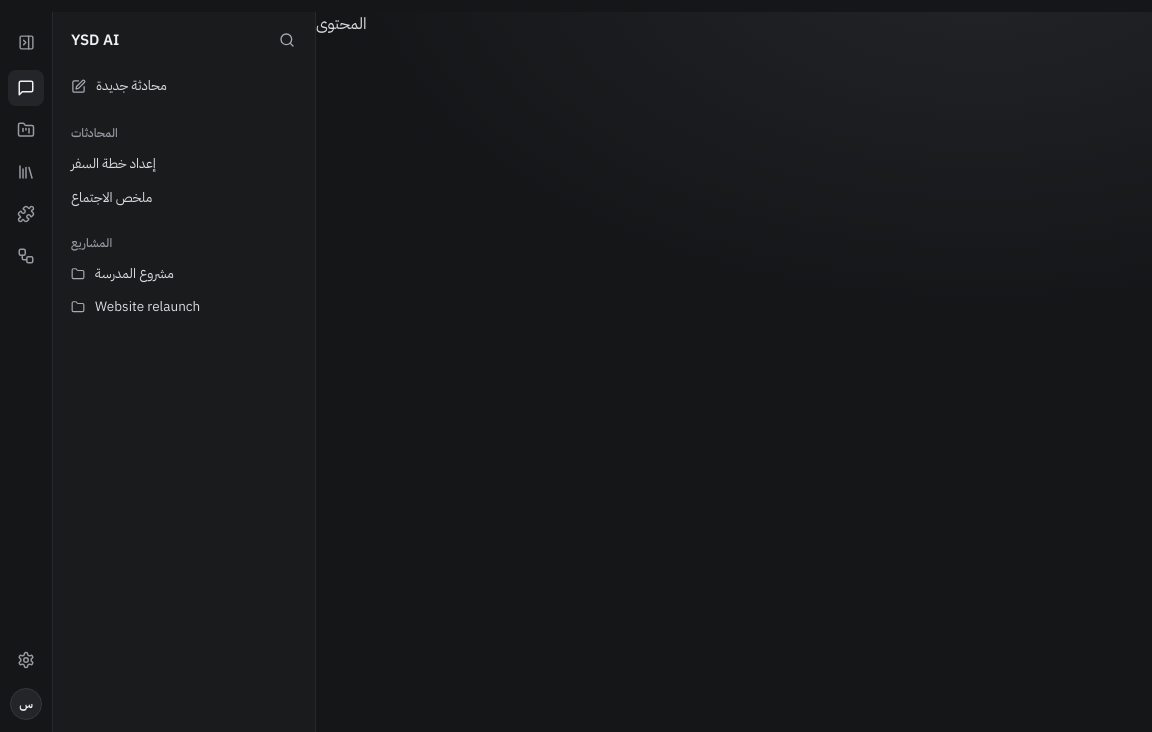
it: قائمة الحساب › Esc يغلقها ويعيد التركيز إلى زرّها، والنقر خارجها يغلقها
The image size is (1152, 732).
Click the button named "قائمة الحساب".
click(26, 704)  # box [10,688,42,720]
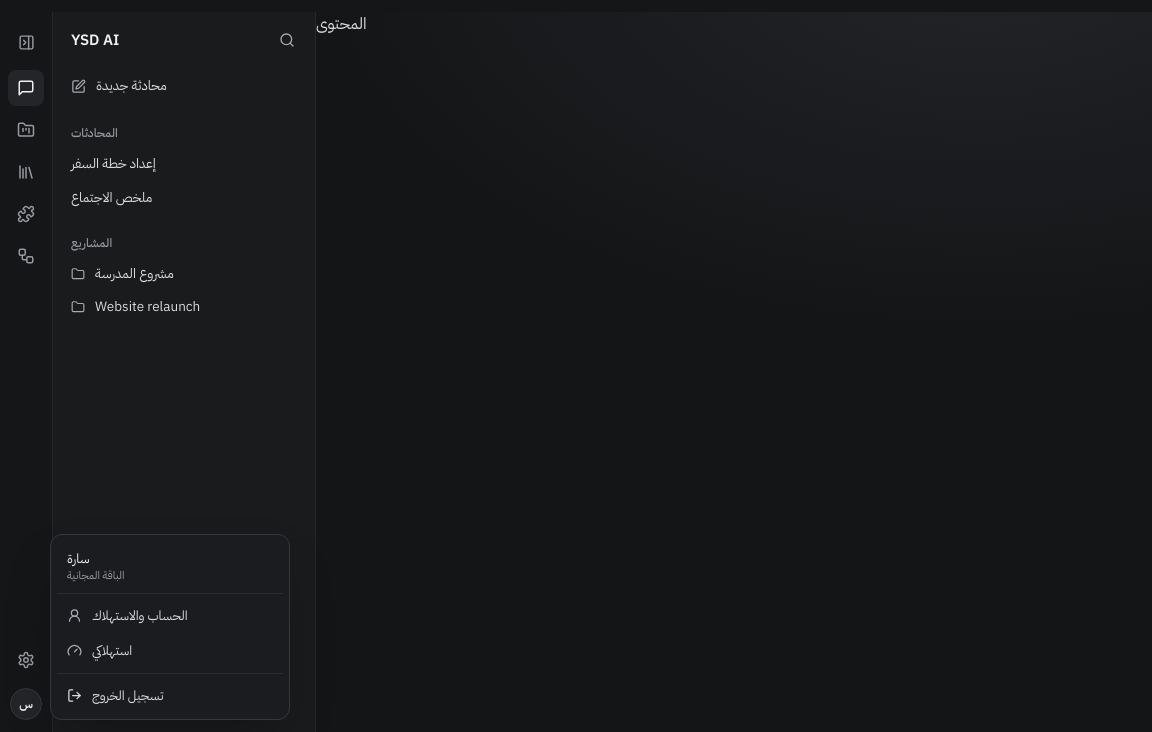
Press Escape
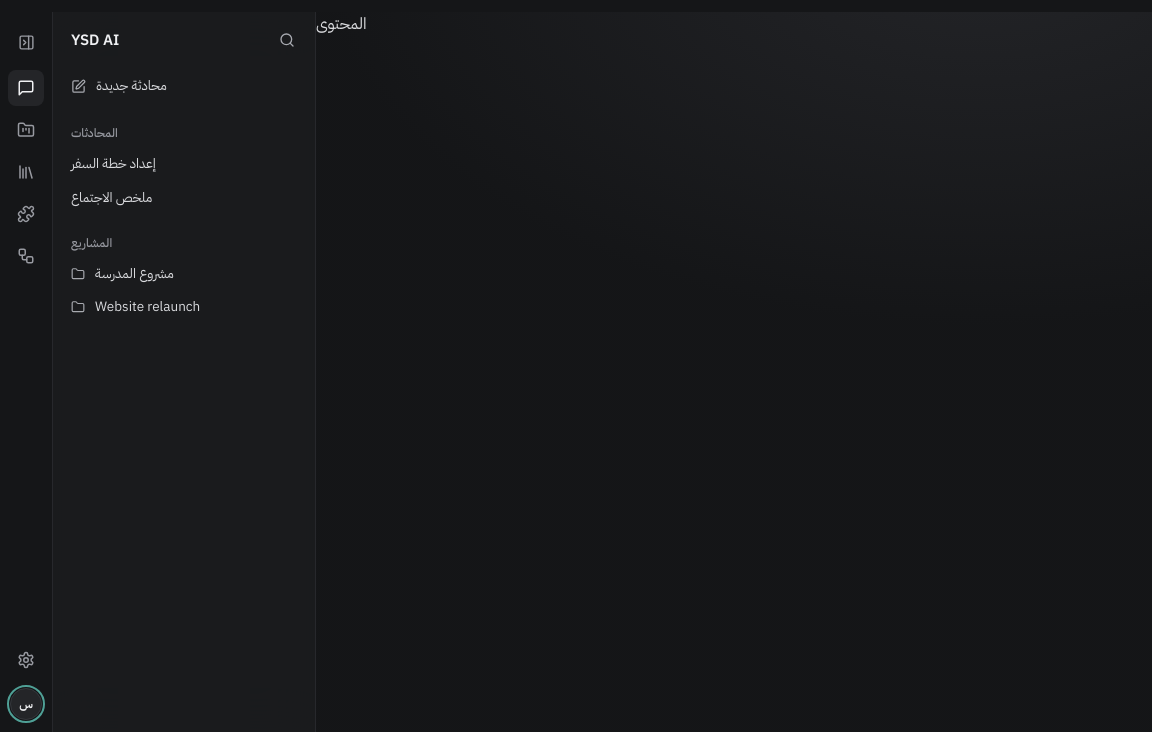
Check: the element with id "shell-user-menu" is gone
Click the button named "قائمة الحساب".
click(26, 704)  # box [10,688,42,720]
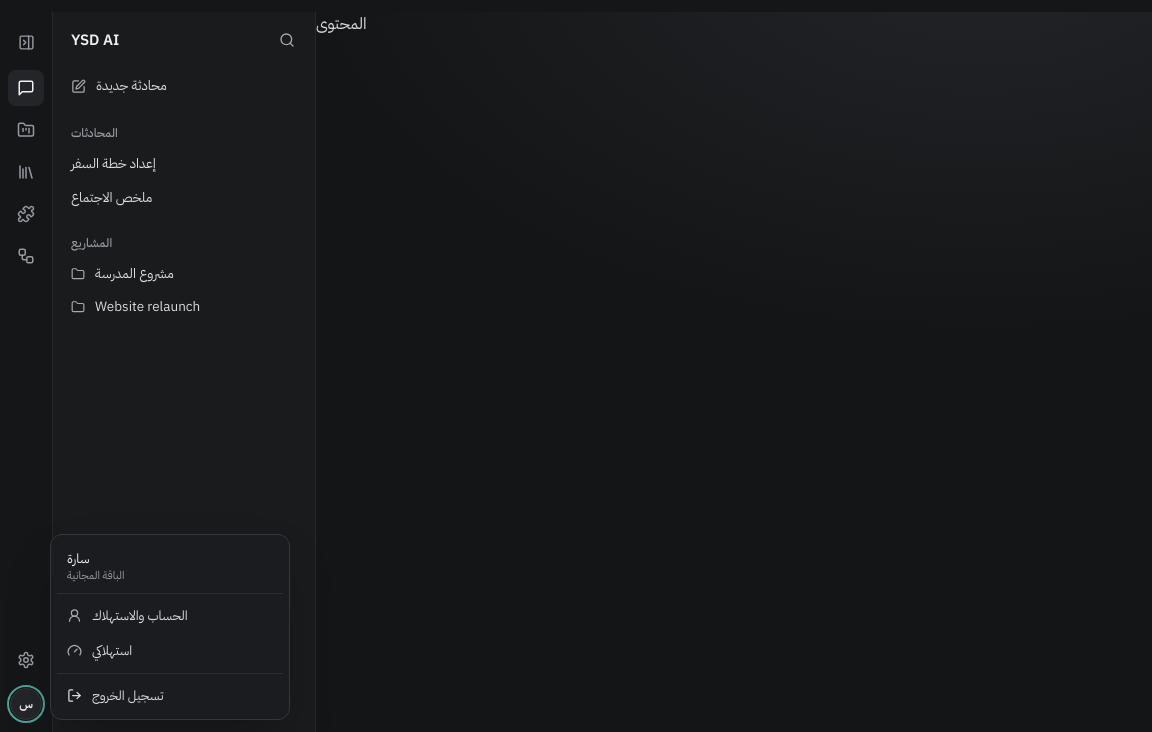
Press the mouse on the element that starts with "سارة" at (576, 372), box [0,12,1151,731]
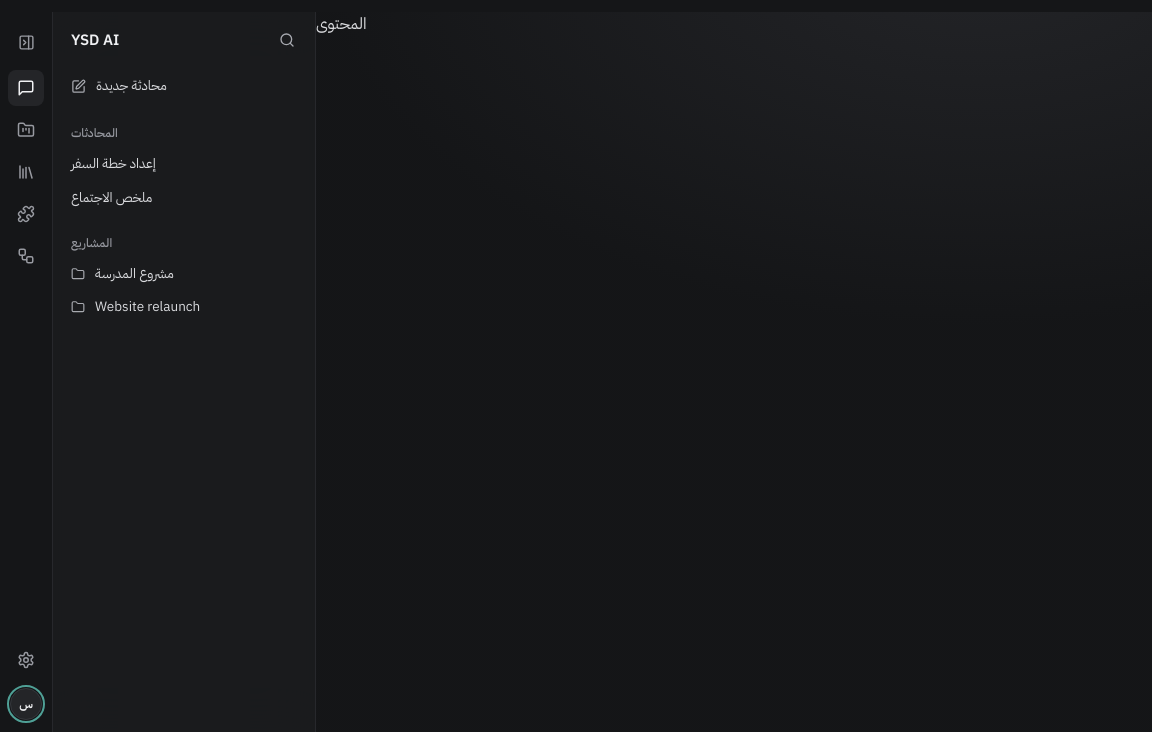
Check: the element with id "shell-user-menu" is gone
